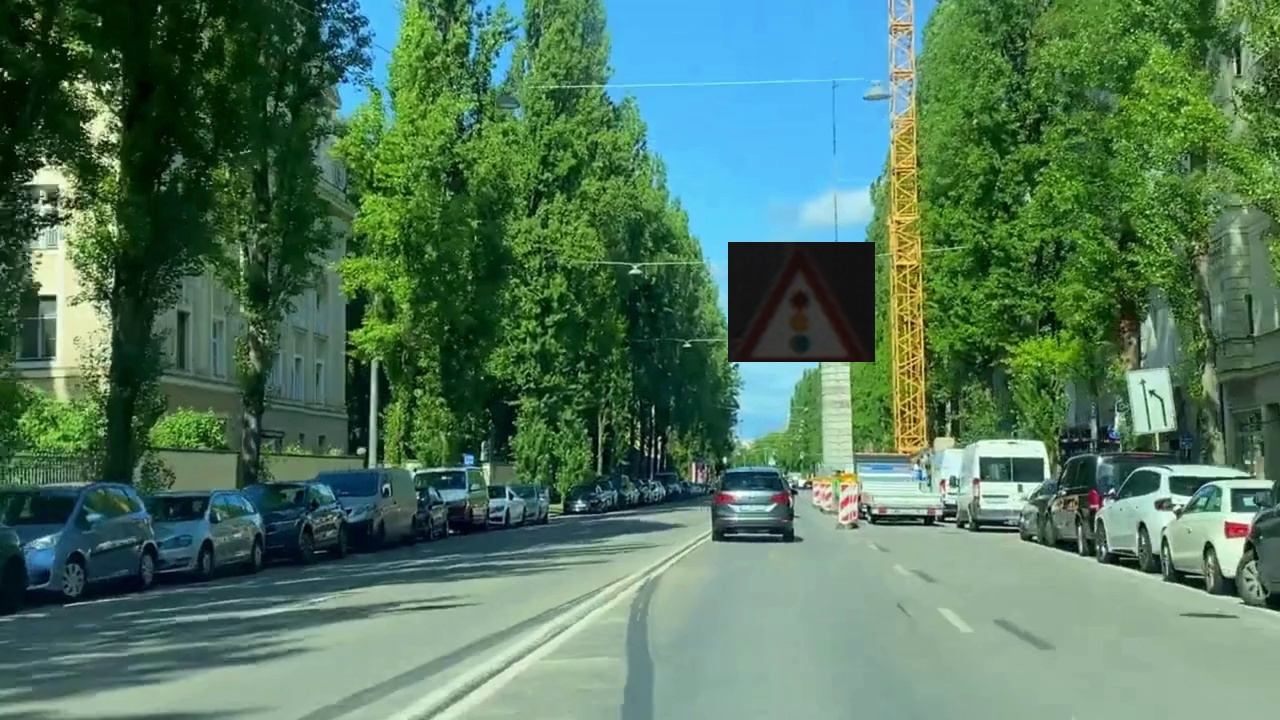Signals: (728, 242, 875, 362)
